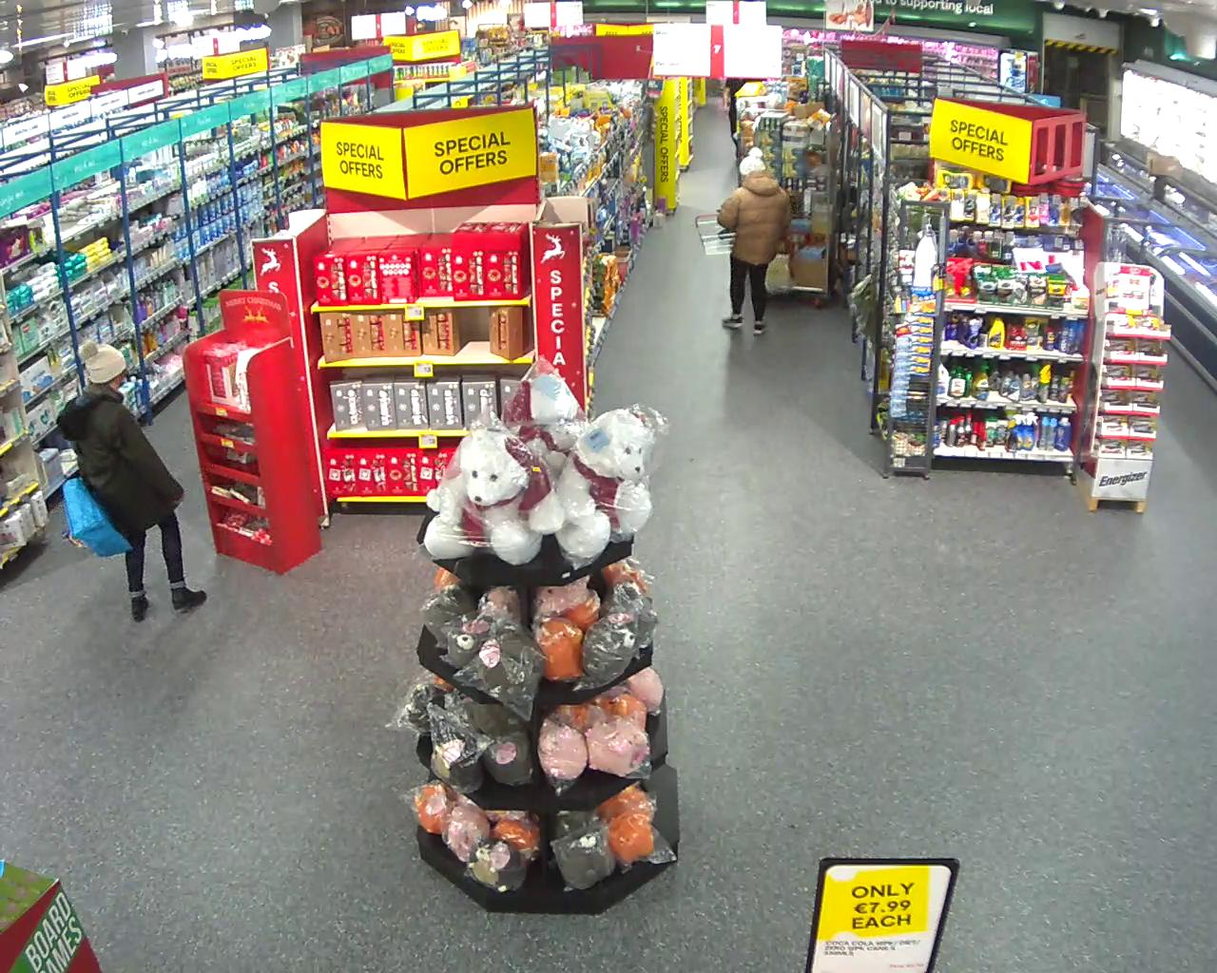empty-basket: (694, 212, 738, 256)
filled-shopping-bags: (63, 479, 132, 560)
person: (56, 339, 206, 618), (718, 146, 790, 335)
person-with-empty-basket-trolly: (695, 146, 790, 335)
person-with-filled-shopping-bag-s-: (57, 339, 207, 618)
